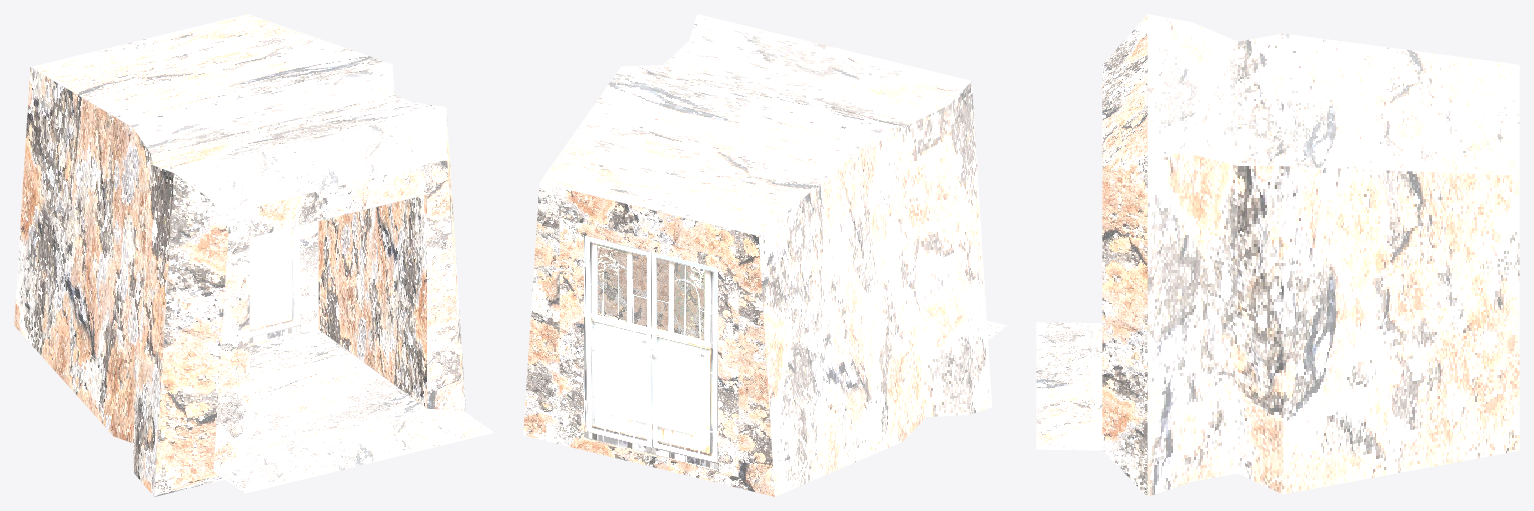
Rendered from tunnel.glb.
3 views of the same model, side by side, from view 1: azimuth 30°, elevation 25°; view 2: azimuth 150°, elevation 25°; view 3: azimuth 270°, elevation 25° (orthographic). The views are drawn at different scales.
Parts seen in each view (by area): view 1: Tunnel; view 2: Tunnel; view 3: Tunnel.
Boxes of the visible parts, x1,y1,x2,y2 form: Tunnel: (14,14,494,496); Tunnel: (523,14,1007,496); Tunnel: (1036,14,1519,496).
Bounding box in the file's own units: 4.73 × 4.47 × 5.86.
